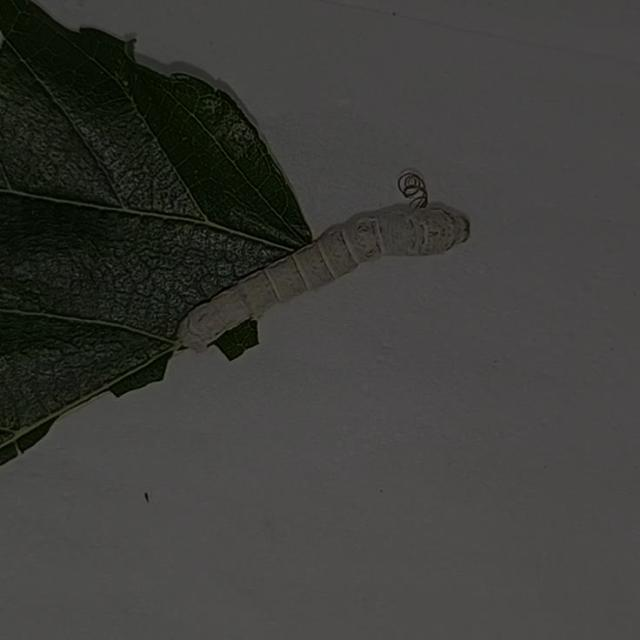Healthy: (149, 175, 506, 382)
